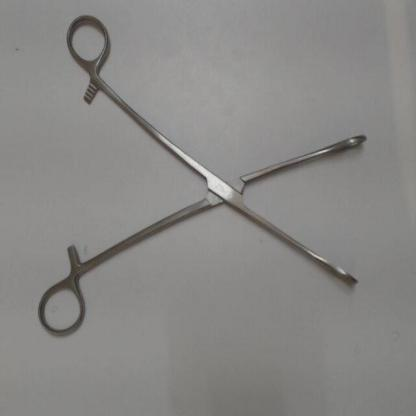Sponge Forceps: (32, 9, 374, 345)
